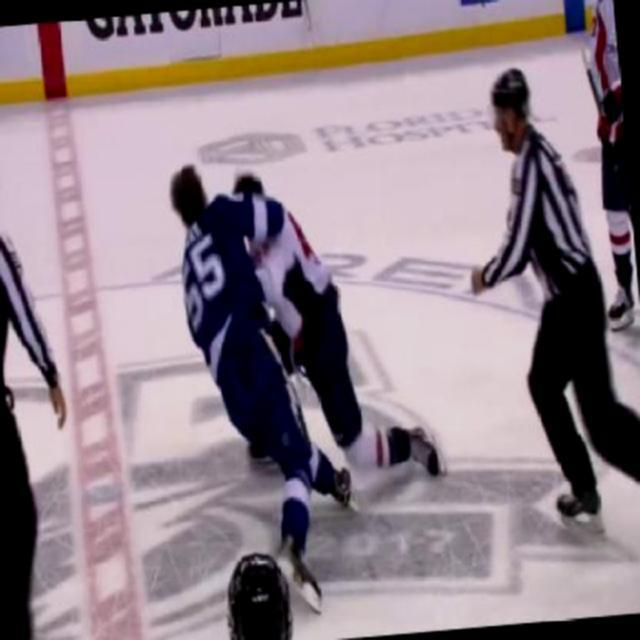fight: (165, 142, 442, 516)
